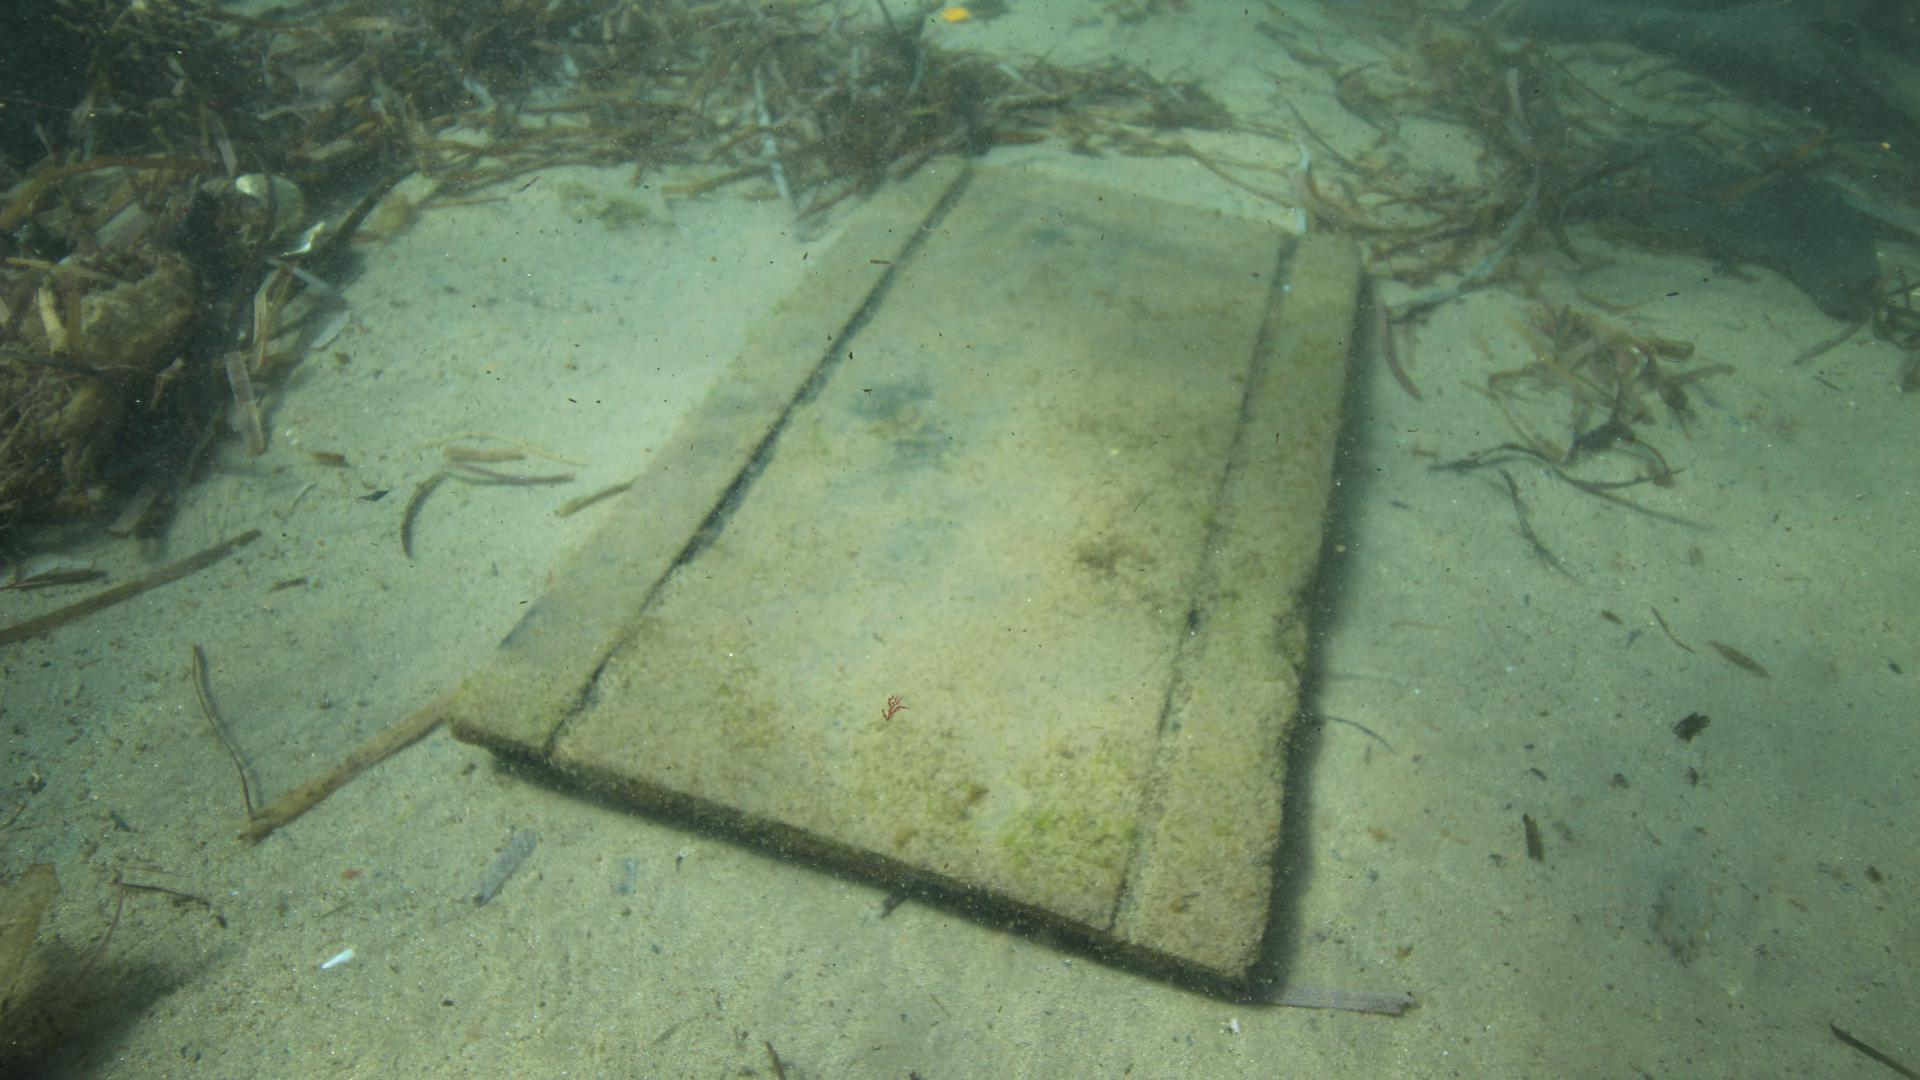wood: (448, 152, 1362, 1002)
